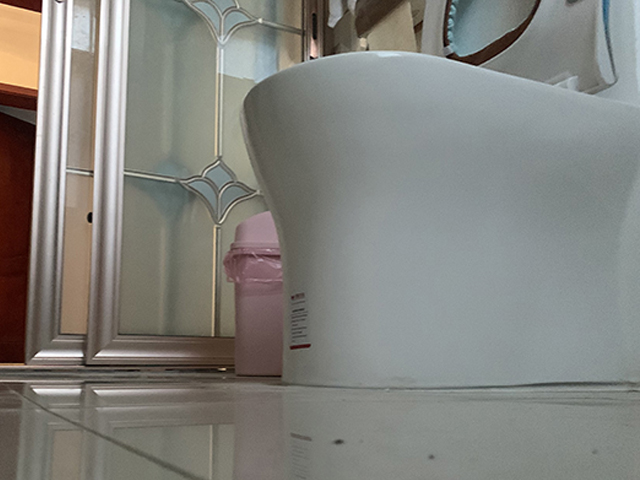closestool: (239, 1, 640, 391)
trashcan: (225, 208, 283, 376)
